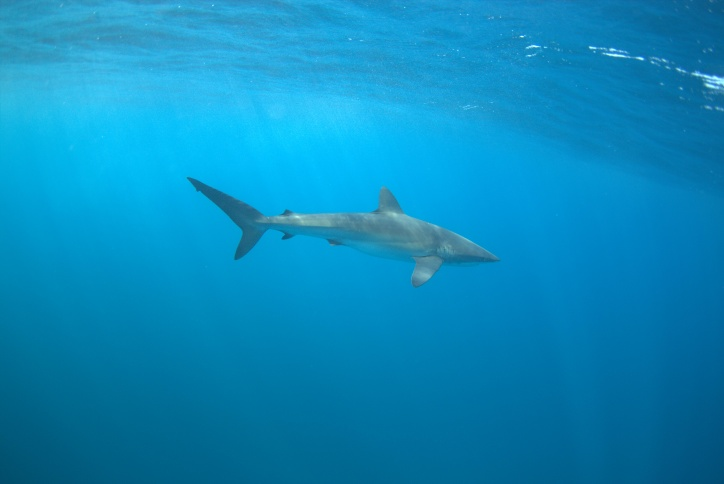Sedoso: (171, 166, 518, 303)
